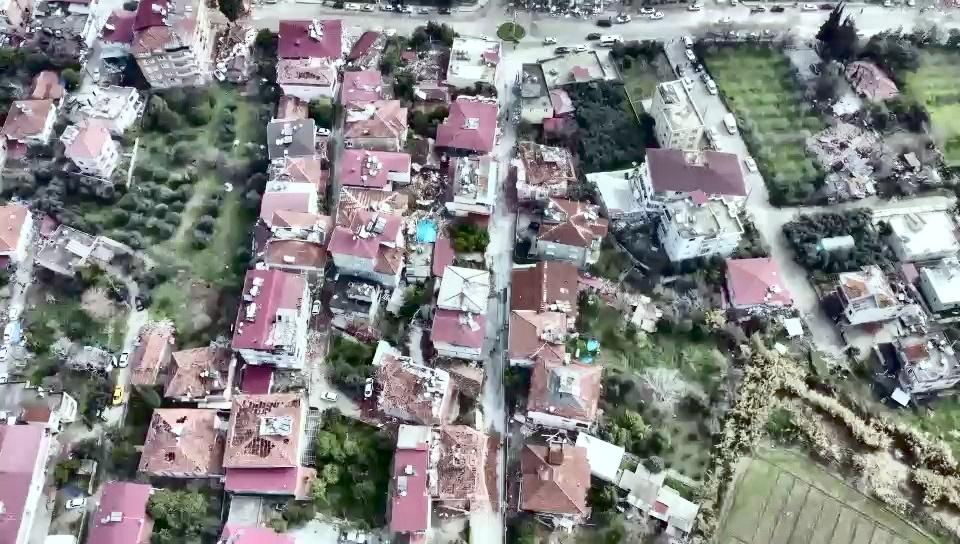kapali: (470, 414, 504, 524), (489, 151, 517, 223)
